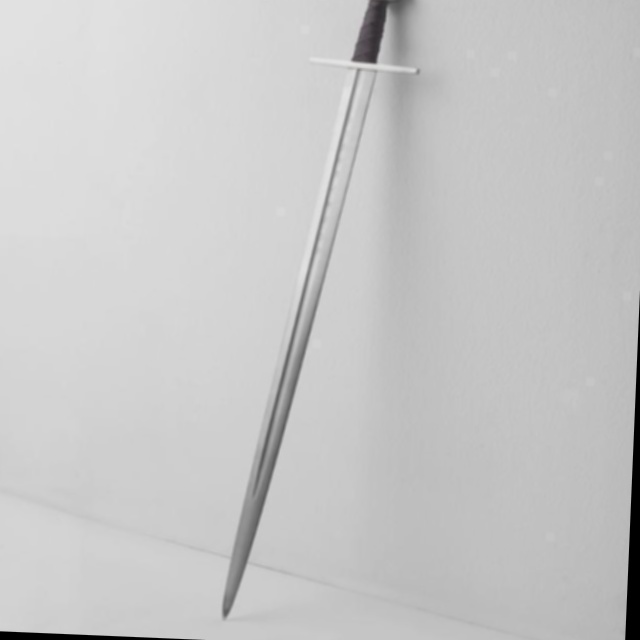Sharp-Object: (216, 0, 416, 633)
